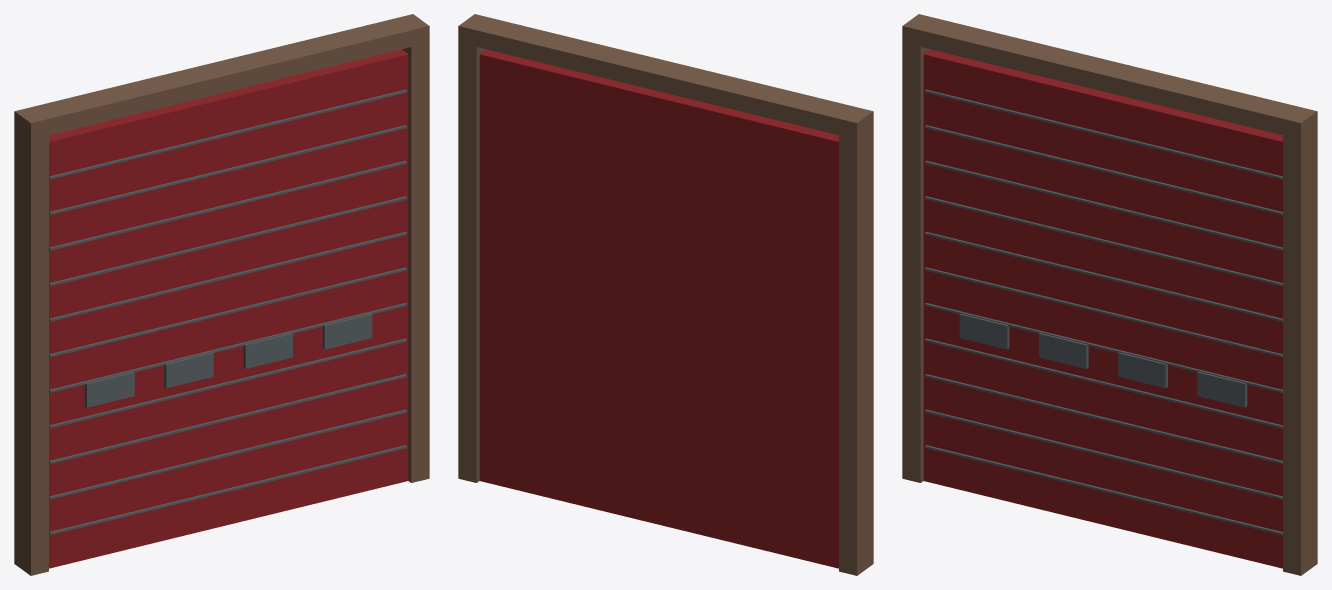
File: garage-bay-module.glb
3 views of the same model, side by side, from view 1: azimuth 30°, elevation 25°; view 2: azimuth 150°, elevation 25°; view 3: azimuth 330°, elevation 25° (orthographic).
Visible parts, largest first — view 1: garage-bay-module; view 2: garage-bay-module; view 3: garage-bay-module.
Boxes of the visible parts, box(x1,y1,x2,y2) form: garage-bay-module: box(14, 14, 429, 575); garage-bay-module: box(458, 14, 873, 575); garage-bay-module: box(902, 14, 1317, 575).
Bounding box in the file's own units: 3.52 × 3.82 × 0.25.
